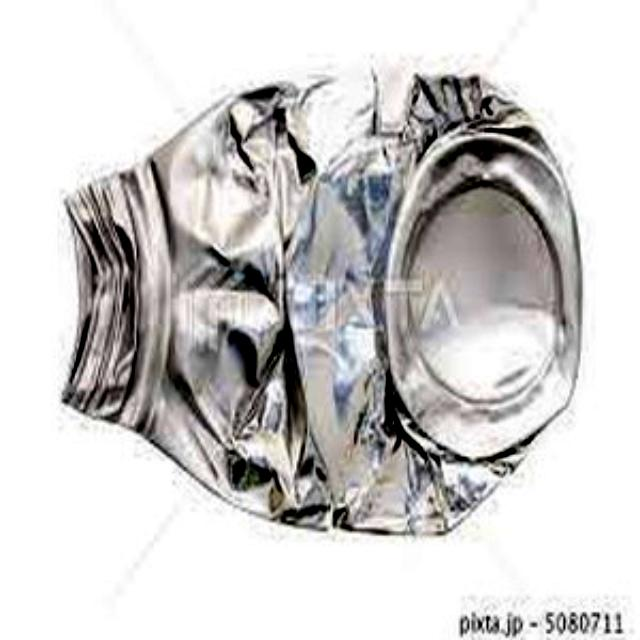Metal: (64, 60, 576, 536)
